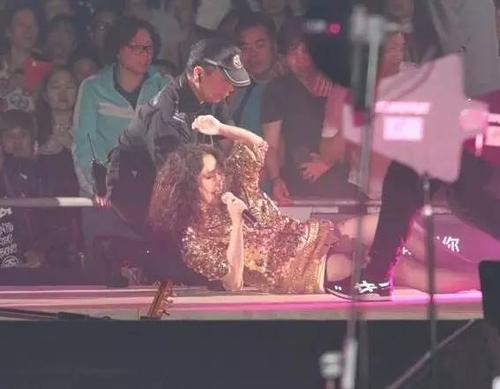10+: (6, 6, 457, 296)
down: (166, 115, 419, 291)
